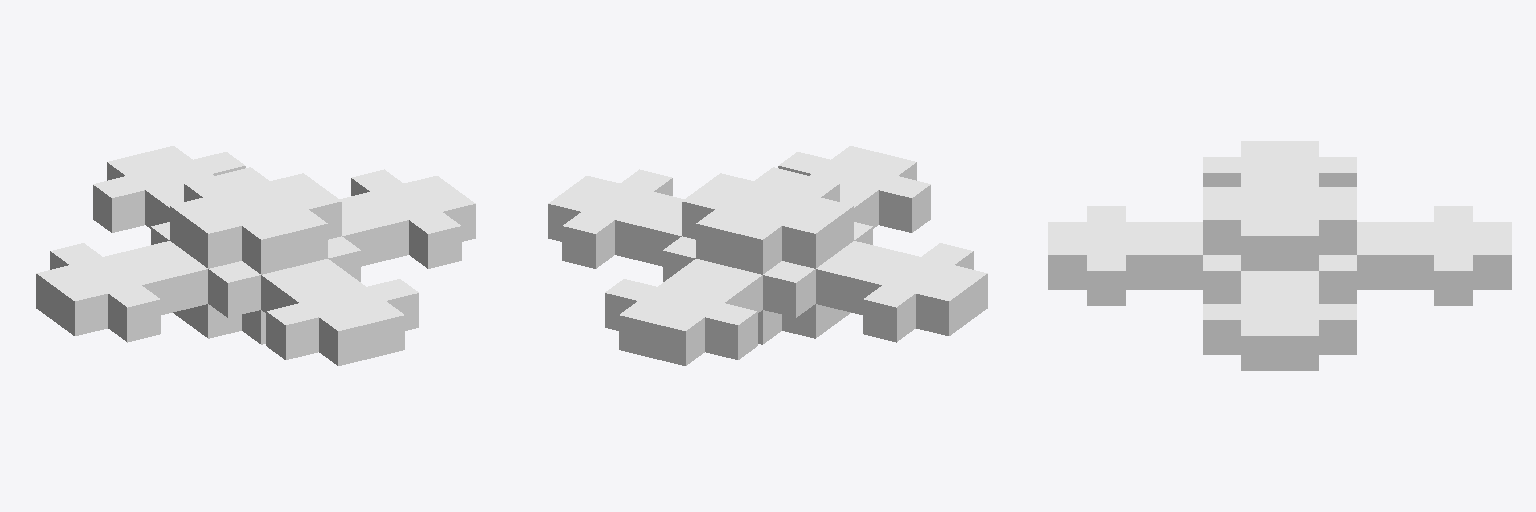
Rendered from boomerang.obj.
3 renders of one model, left to right at view 1: azimuth 30°, elevation 25°; view 2: azimuth 150°, elevation 25°; view 3: azimuth 270°, elevation 25°, orthographic.
Visible parts, largest first — view 1: object 1; view 2: object 1; view 3: object 1.
Part boxes in pixels (x1,y1,x2,y2): object 1: (36, 146, 475, 365); object 1: (548, 146, 987, 365); object 1: (1048, 141, 1511, 370).
Bounding box in the file's own units: 1.2 × 0.3 × 1.2.